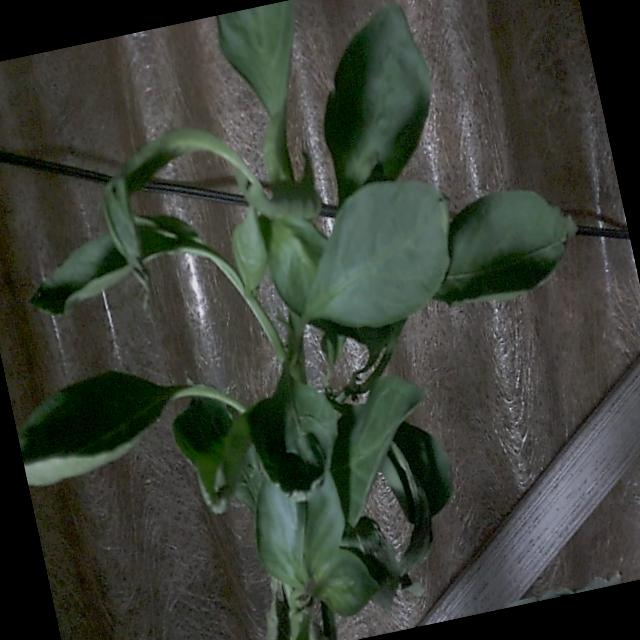Leaf: (303, 182, 448, 328), (324, 5, 429, 200), (18, 371, 181, 486), (434, 191, 576, 304), (346, 376, 425, 526), (31, 235, 131, 315)
